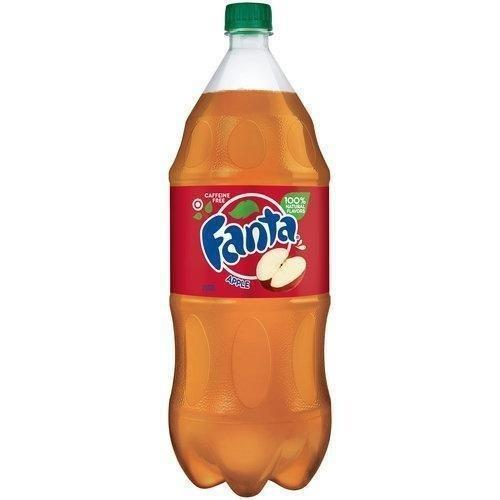bottle-plastic: (161, 1, 342, 499)
